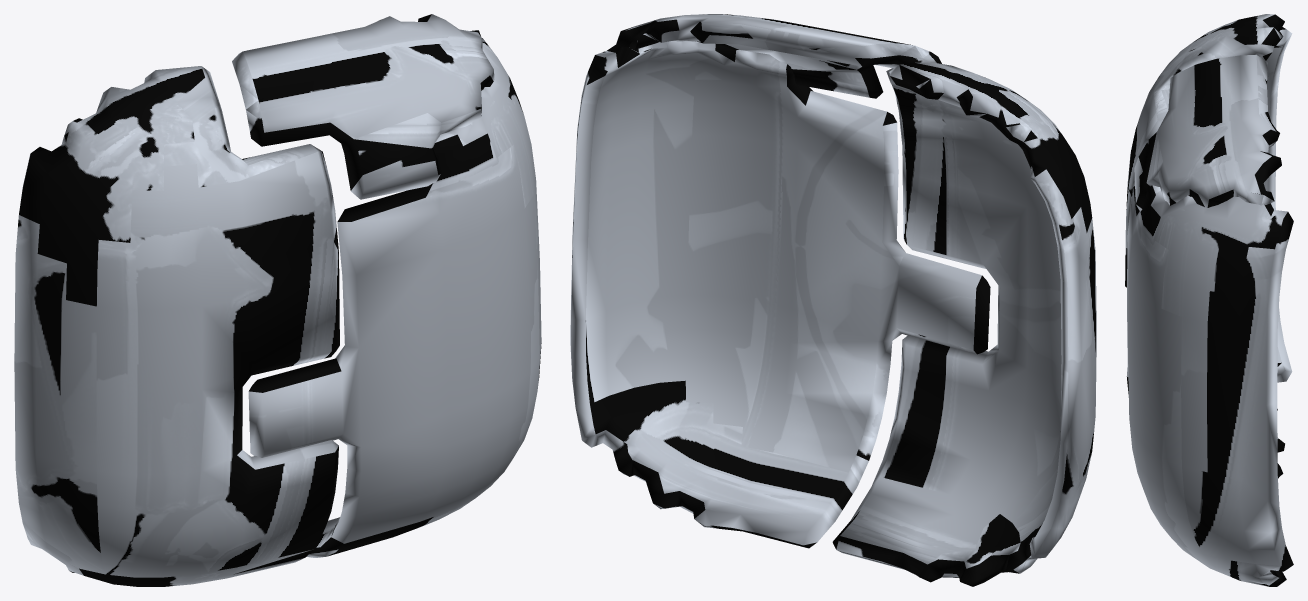
The model's file is Mascarada_MascaraNinguna.fbx.
3 views of the same model, side by side, from view 1: azimuth 30°, elevation 25°; view 2: azimuth 150°, elevation 25°; view 3: azimuth 270°, elevation 25° (orthographic). The views are drawn at different scales.
Parts seen in each view (by area): view 1: Mascarada_MascaraNinguna; view 2: Mascarada_MascaraNinguna; view 3: Mascarada_MascaraNinguna.
Boxes of the visible parts, x1,y1,x2,y2 form: Mascarada_MascaraNinguna: (14, 14, 541, 586); Mascarada_MascaraNinguna: (570, 14, 1096, 586); Mascarada_MascaraNinguna: (1125, 14, 1293, 586).
Bounding box in the file's own units: 1.2 × 1.15 × 0.3846.
